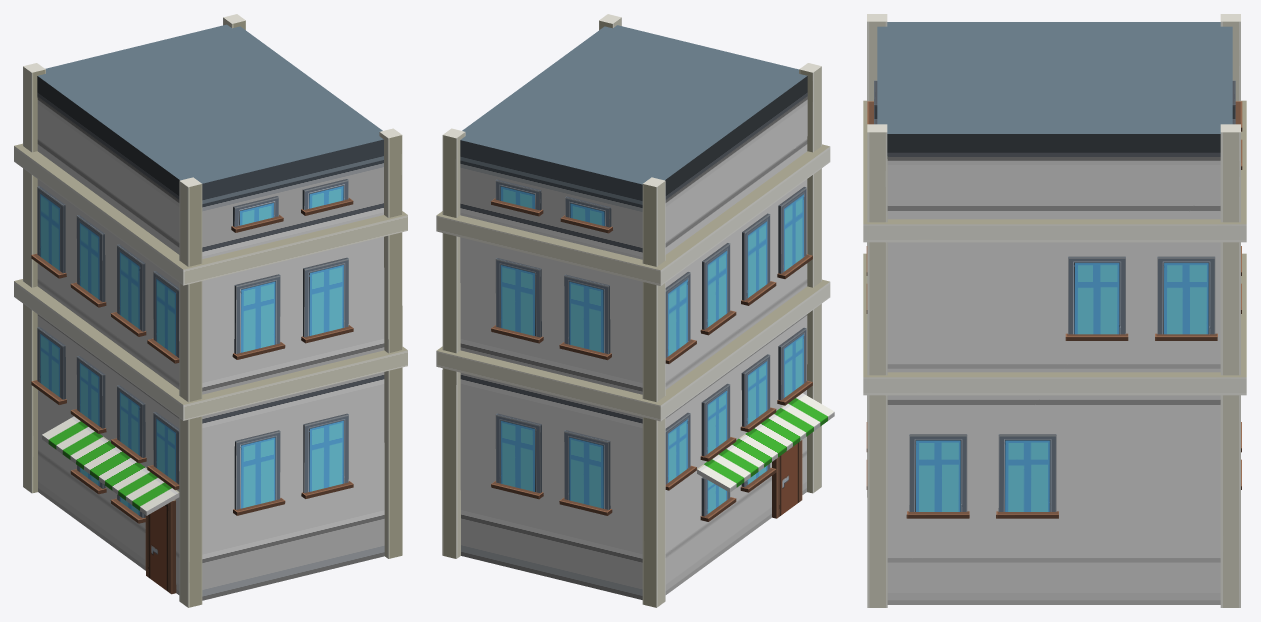
The model's file is house_middle.fbx.
3 views of the same model, side by side, from view 1: azimuth 30°, elevation 25°; view 2: azimuth 150°, elevation 25°; view 3: azimuth 270°, elevation 25° (orthographic). The views are drawn at different scales.
Visible parts, largest first — view 1: house_middle:house_middle, house_middle:house_middle_box; view 2: house_middle:house_middle, house_middle:house_middle_box; view 3: house_middle:house_middle_box, house_middle:house_middle.
Part boxes in pixels (box(x1,y1,x2,y2)): house_middle:house_middle: box(14, 14, 407, 607); house_middle:house_middle_box: box(37, 96, 384, 600); house_middle:house_middle: box(436, 14, 834, 607); house_middle:house_middle_box: box(460, 96, 807, 599); house_middle:house_middle_box: box(887, 157, 1220, 604); house_middle:house_middle: box(863, 14, 1246, 607).
Size of the model in its own units: 13.03 by 21.38 by 15.6.
Materials: 1 (1 with a texture image).
